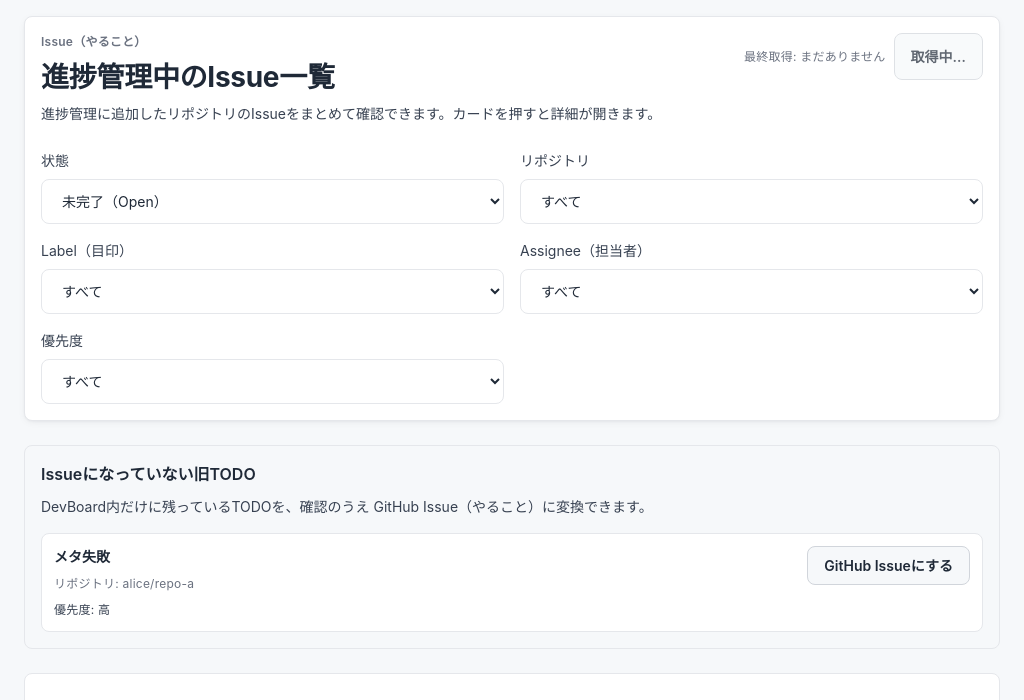
Test: IssuesHome › legacy unlinked todos › shows a meta migration warning inside the success notice when local meta save fails
Click the button "GitHub Issueにする": point(889, 565) [807,546,970,585]
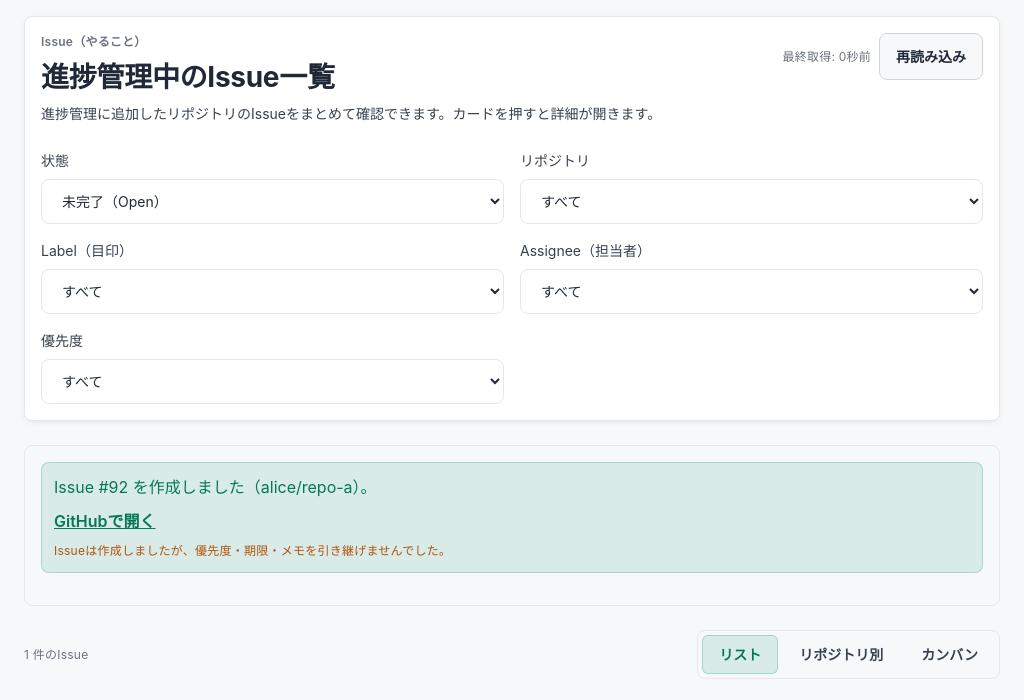
Result: the message shows "Issue #92 を作成しました" at [41,462,983,573]
Result: the message shows "優先度・期限・メモを引き継げませんでした" at [54,543,451,558]
